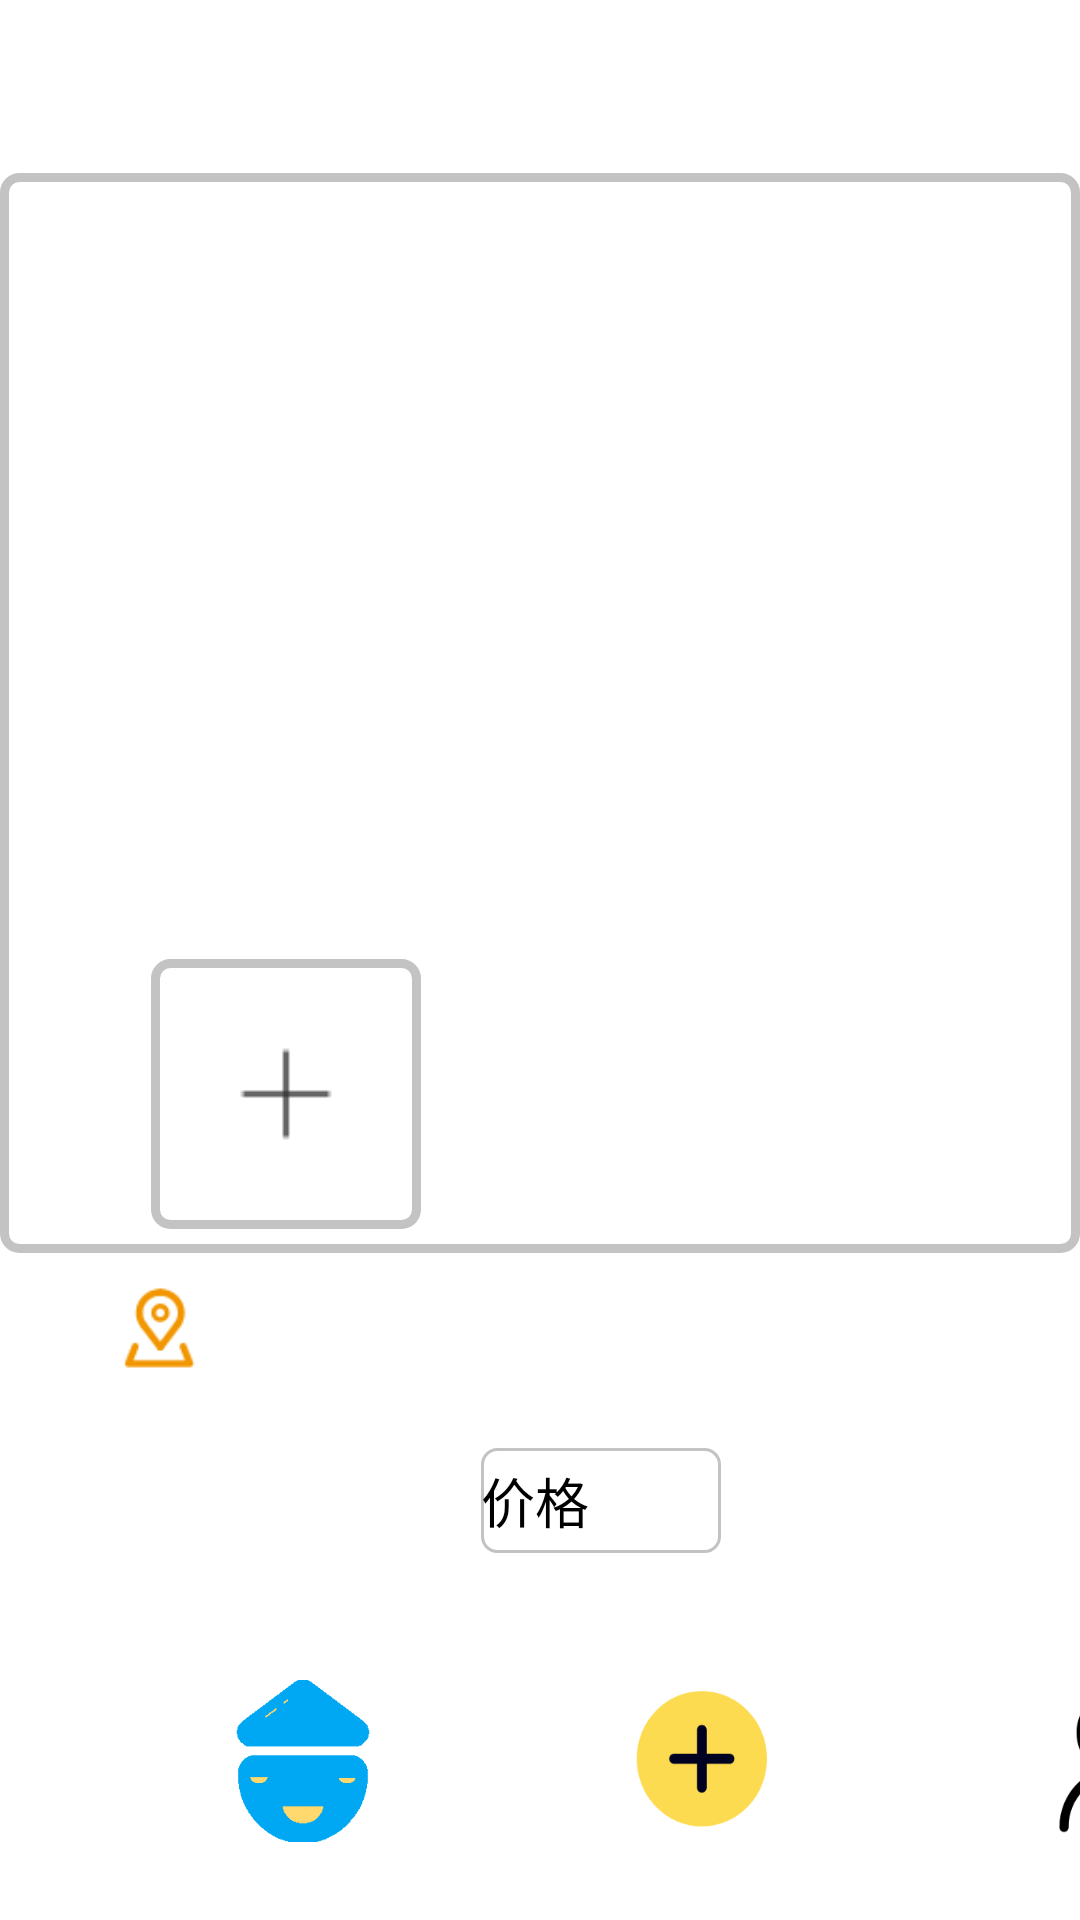

Icons on this 1080×1920 Android screen, each with its box as region(x1, y1, x2, y2):
location: region(124, 1288, 195, 1368)
